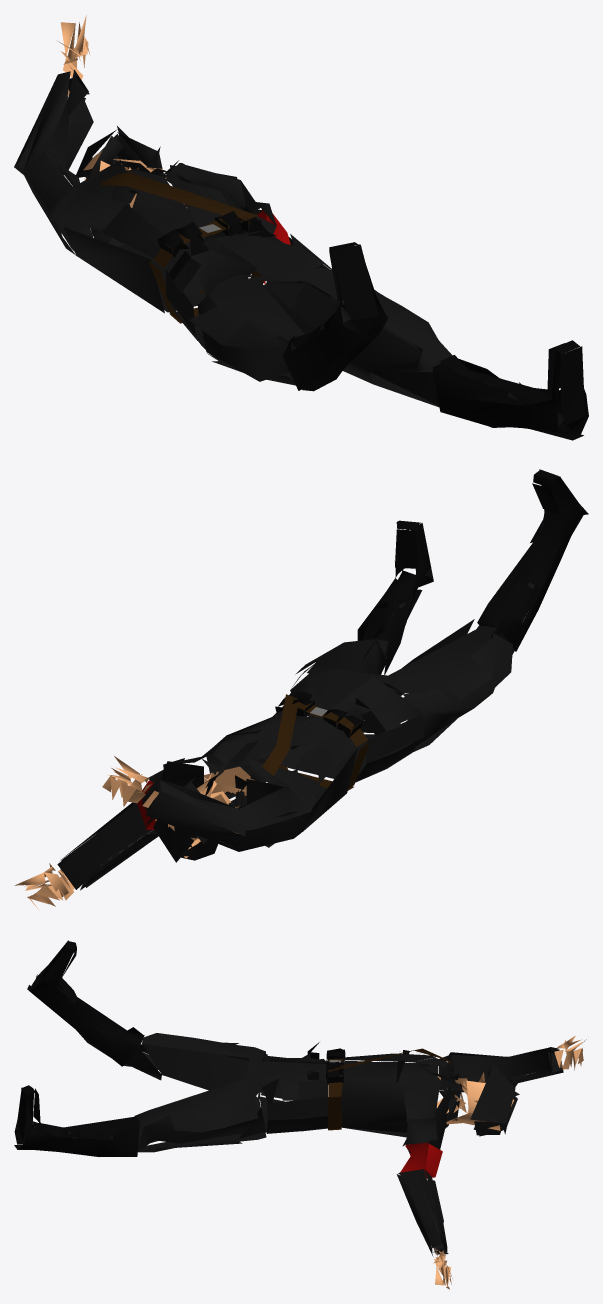
Rendered from dead_sol_arm_raised.glb.
3 renders of one model, top to bottom at view 1: azimuth 30°, elevation 25°; view 2: azimuth 150°, elevation 25°; view 3: azimuth 270°, elevation 25°, orthographic. The views are drawn at different scales.
Parts seen in each view (by area): view 1: Soldier_1, Helmet; view 2: Soldier_1, Helmet; view 3: Soldier_1, Helmet.
Part boxes in pixels (x1=…): Soldier_1: x1=14, y1=15, x2=588, y2=440; Helmet: x1=73, y1=126, x2=170, y2=190; Soldier_1: x1=14, y1=469, x2=588, y2=908; Helmet: x1=144, y1=773, x2=217, y2=862; Soldier_1: x1=14, y1=940, x2=586, y2=1289; Helmet: x1=470, y1=1064, x2=519, y2=1136.
Size of the model in its own units: 0.9608 by 0.9514 by 2.
1 material, 1 textured.
